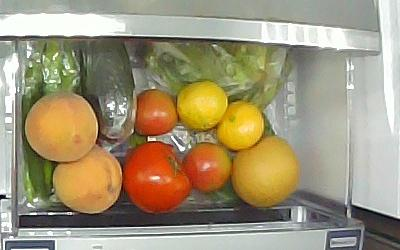peach: (23, 89, 99, 162), (51, 145, 123, 214)
pear: (228, 133, 299, 207)
tangerine: (173, 78, 228, 130), (214, 100, 265, 150)
tomato: (121, 140, 192, 213), (180, 141, 232, 192), (133, 87, 178, 136)
